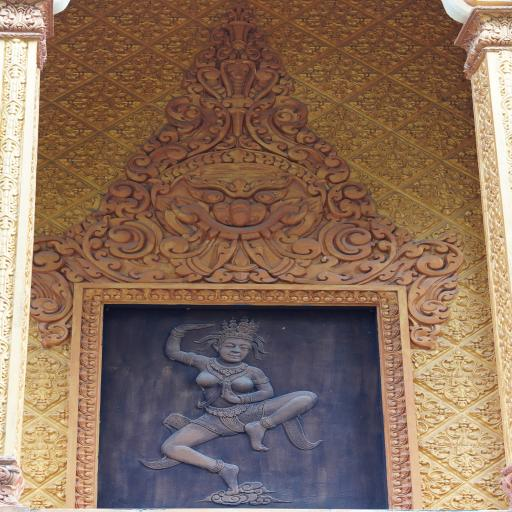la: (320, 218, 402, 285), (79, 216, 161, 279), (241, 97, 319, 154), (380, 238, 464, 287), (158, 96, 228, 152), (31, 235, 107, 285), (31, 271, 73, 322), (326, 182, 378, 219), (0, 0, 49, 32), (108, 180, 152, 214), (348, 0, 415, 17), (412, 337, 450, 366), (464, 330, 497, 363), (447, 452, 488, 478), (460, 264, 488, 302), (320, 152, 353, 184), (124, 150, 158, 181), (427, 467, 462, 497), (259, 0, 317, 18), (474, 469, 508, 499), (21, 459, 60, 483), (473, 399, 504, 429), (447, 487, 487, 510), (420, 434, 455, 460), (166, 0, 222, 16), (422, 398, 454, 426), (38, 322, 72, 348), (443, 386, 483, 408), (416, 366, 448, 392), (446, 417, 482, 440), (465, 298, 493, 327), (316, 24, 356, 44), (220, 1, 258, 22), (23, 420, 59, 442), (441, 348, 476, 370), (85, 22, 117, 46), (386, 9, 418, 33), (320, 80, 360, 99), (26, 389, 62, 410), (476, 435, 506, 460), (392, 64, 425, 86), (82, 108, 118, 128), (108, 118, 138, 142), (304, 91, 334, 115), (26, 351, 60, 372), (403, 180, 437, 201), (380, 193, 414, 214), (58, 91, 90, 113), (37, 136, 69, 158), (77, 0, 127, 14), (423, 136, 458, 156), (412, 206, 441, 230), (62, 177, 92, 200), (129, 24, 165, 43), (348, 63, 379, 85), (441, 92, 472, 114), (406, 148, 437, 170), (84, 166, 118, 186), (380, 166, 414, 186), (66, 6, 95, 29), (449, 150, 478, 173), (85, 76, 118, 96), (291, 10, 324, 30), (436, 36, 466, 58), (472, 366, 498, 391), (269, 23, 305, 41), (410, 26, 446, 44), (418, 107, 454, 125), (132, 79, 166, 98), (56, 151, 90, 170), (374, 109, 408, 128), (376, 135, 410, 154), (64, 61, 92, 84), (108, 64, 140, 84), (112, 92, 144, 112), (343, 9, 375, 29), (353, 120, 385, 140), (112, 34, 141, 56), (65, 118, 94, 140), (354, 148, 383, 170), (58, 35, 88, 56), (84, 52, 119, 70), (369, 78, 404, 96), (450, 118, 476, 142), (158, 9, 189, 29), (35, 196, 66, 216), (456, 208, 484, 230), (178, 22, 212, 40), (392, 38, 426, 56), (324, 107, 360, 124), (431, 196, 465, 214), (444, 320, 473, 341), (105, 9, 137, 28), (314, 0, 352, 16), (366, 54, 404, 70), (300, 36, 330, 56), (343, 37, 373, 57), (400, 92, 430, 112), (258, 47, 284, 70), (365, 24, 398, 42), (427, 164, 460, 182), (36, 163, 67, 182), (435, 222, 466, 241), (155, 36, 184, 56), (41, 79, 70, 99), (349, 92, 378, 112), (399, 121, 428, 141), (132, 51, 166, 68), (84, 135, 118, 152), (416, 82, 452, 98), (332, 136, 362, 155), (41, 48, 69, 68), (414, 52, 449, 68), (300, 66, 328, 86), (466, 235, 486, 263), (21, 494, 58, 509), (458, 177, 482, 200), (133, 107, 165, 124), (58, 210, 88, 228), (45, 476, 67, 500), (321, 52, 354, 68), (40, 105, 66, 125), (320, 9, 346, 29), (280, 54, 308, 72), (437, 10, 462, 30), (193, 48, 219, 67), (160, 65, 186, 84), (81, 193, 105, 213), (35, 222, 65, 238), (444, 63, 468, 83), (409, 0, 442, 14), (312, 119, 335, 139), (111, 150, 133, 170), (51, 340, 73, 360), (46, 24, 70, 42), (51, 405, 70, 427), (54, 368, 71, 392), (54, 439, 70, 464), (130, 0, 163, 12), (392, 478, 412, 496), (381, 303, 399, 323), (217, 42, 236, 60), (279, 74, 297, 93), (175, 51, 196, 67), (391, 463, 412, 479), (264, 289, 289, 302), (29, 315, 41, 342), (76, 478, 94, 496), (390, 447, 410, 463), (148, 288, 172, 301), (332, 290, 356, 303), (77, 429, 94, 447), (245, 42, 261, 61), (382, 337, 401, 353), (253, 26, 268, 46), (392, 495, 412, 510), (388, 415, 408, 430), (387, 400, 407, 415), (241, 289, 264, 302), (312, 290, 335, 303), (77, 446, 94, 463), (79, 397, 96, 414), (79, 381, 96, 398), (77, 462, 93, 480), (218, 290, 242, 302), (288, 290, 312, 302), (390, 430, 408, 446), (385, 368, 403, 384), (196, 289, 218, 302), (210, 26, 225, 45), (386, 384, 405, 399), (357, 291, 380, 303), (125, 288, 146, 301), (174, 288, 195, 301), (78, 414, 95, 430), (80, 351, 97, 367), (383, 322, 400, 338), (180, 73, 198, 88), (80, 367, 97, 382), (81, 336, 98, 351), (84, 300, 101, 315), (384, 354, 402, 368), (379, 291, 398, 304), (22, 407, 36, 424), (77, 495, 94, 509), (103, 289, 124, 300), (82, 321, 97, 336), (20, 439, 29, 463), (85, 288, 102, 300), (188, 64, 201, 76), (25, 372, 31, 394), (278, 65, 287, 76)
lua: (207, 248, 276, 284), (221, 93, 255, 108)
than: (37, 0, 469, 283), (146, 308, 341, 504), (452, 431, 478, 458), (448, 366, 474, 388), (29, 438, 53, 461), (324, 64, 353, 83), (441, 300, 467, 321), (432, 178, 459, 198), (40, 62, 64, 84), (138, 63, 160, 86), (426, 120, 452, 139), (90, 90, 112, 112), (40, 119, 64, 139), (382, 148, 406, 168), (40, 176, 62, 197), (32, 368, 53, 390), (388, 208, 410, 229), (88, 37, 112, 56), (372, 36, 396, 55), (422, 64, 446, 83), (377, 91, 401, 110), (415, 11, 440, 29), (279, 36, 301, 56), (332, 120, 354, 140), (137, 9, 158, 29), (140, 120, 159, 142), (91, 150, 110, 168), (186, 36, 204, 54)
